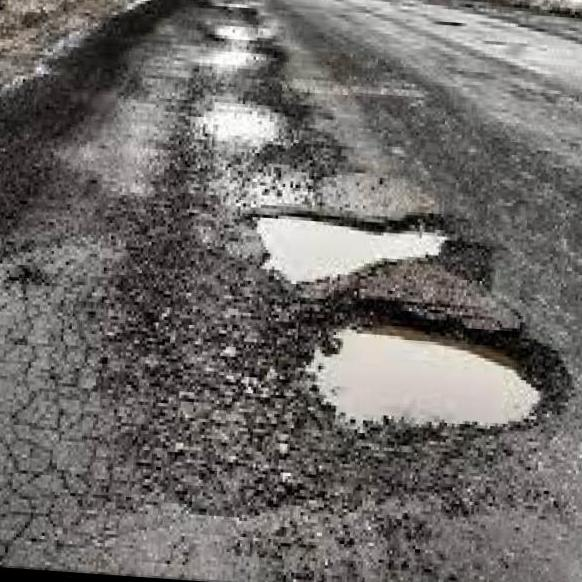pothole: (289, 292, 575, 466), (251, 195, 463, 288), (189, 85, 328, 160), (182, 44, 288, 78)
